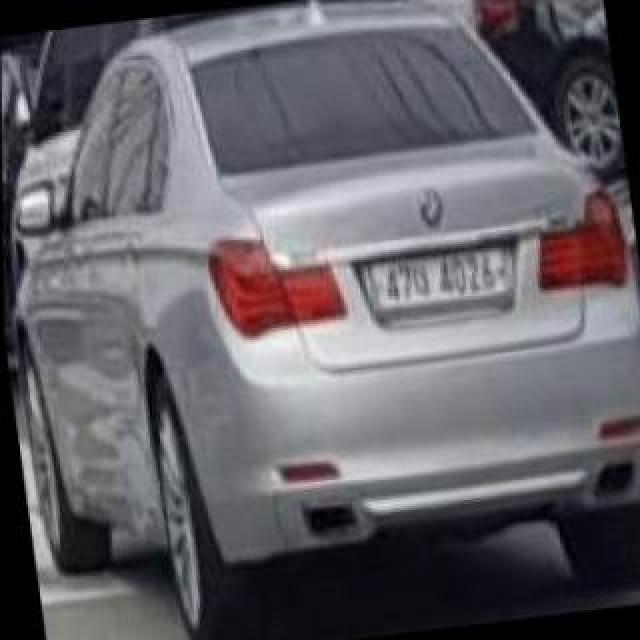car: (9, 8, 640, 626)
illegal_plate: (367, 242, 518, 320)
